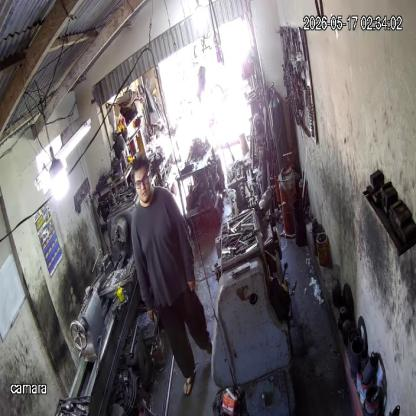lentes: (133, 172, 150, 190)
